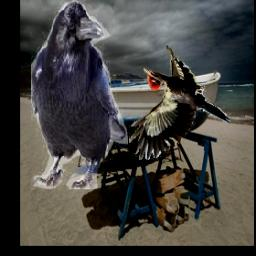Crow: (31, 0, 128, 190)
Woodpecker: (130, 47, 231, 161)
